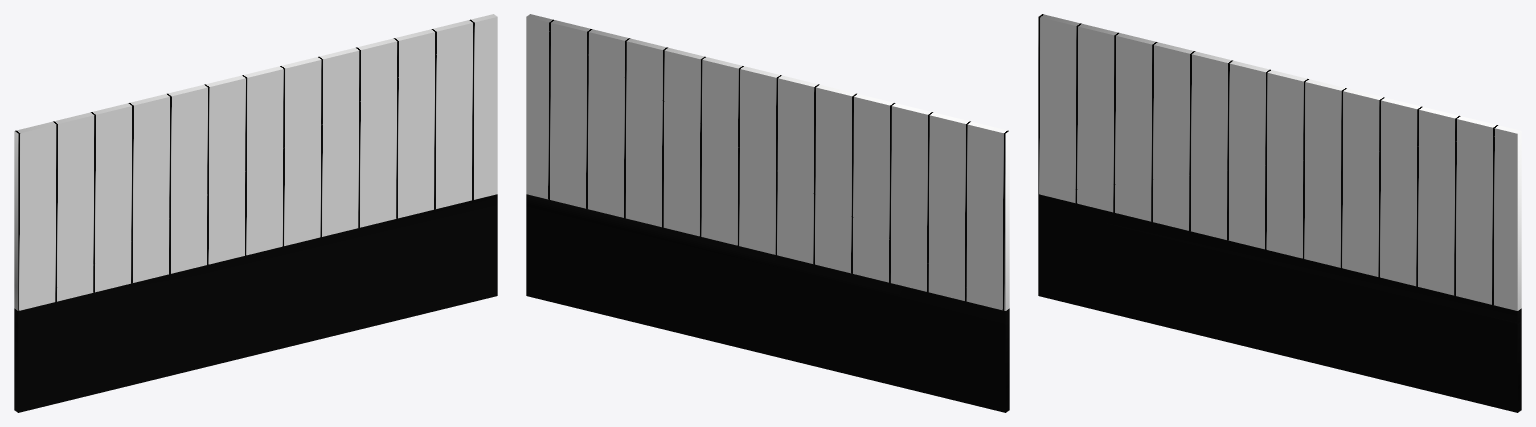
The model's file is interior-wall.glb.
3 views of the same model, side by side, from view 1: azimuth 30°, elevation 25°; view 2: azimuth 150°, elevation 25°; view 3: azimuth 330°, elevation 25° (orthographic).
Visible parts, largest first — view 1: InteriorWall; view 2: InteriorWall; view 3: InteriorWall.
Part boxes in pixels (<box>): InteriorWall: <box>14,14,497,412</box>; InteriorWall: <box>526,14,1009,412</box>; InteriorWall: <box>1038,14,1521,412</box>.
Bounding box in the file's own units: 10.7 × 5.95 × 0.1502.
Materials: 2 (1 with a texture image).
